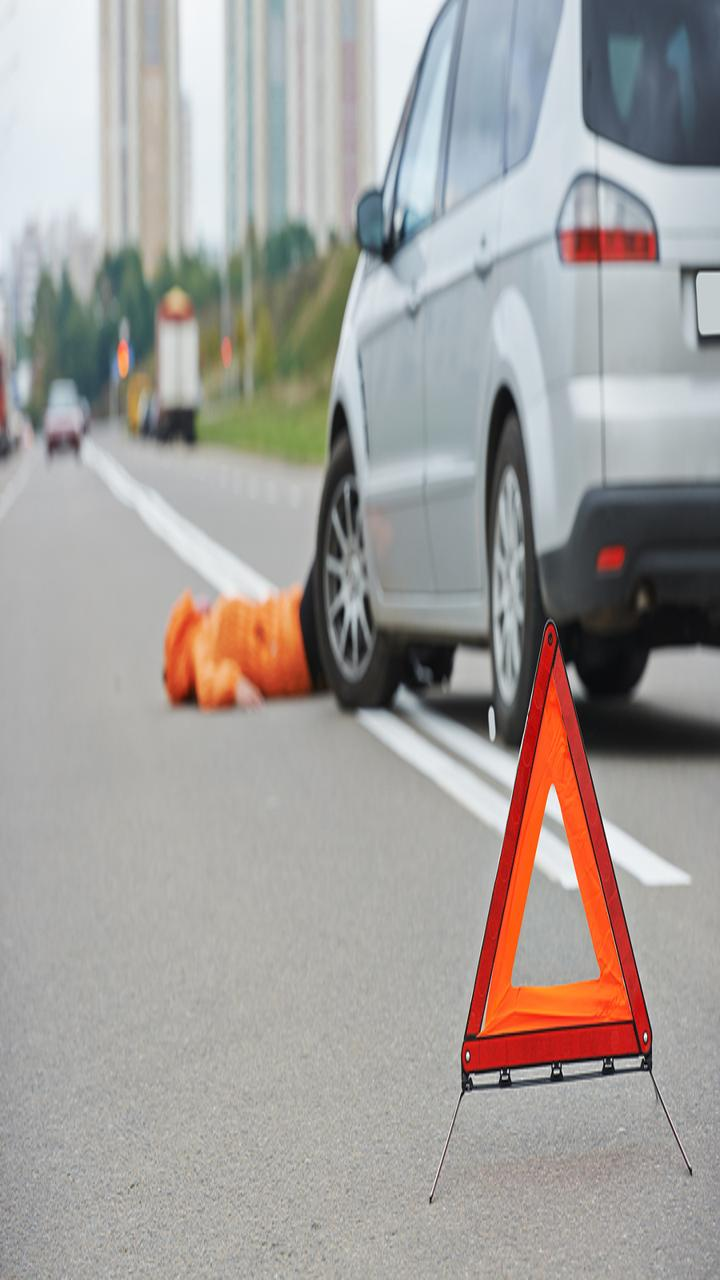Traffic sign: (382, 604, 720, 1206)
vehicle: (218, 9, 720, 707), (27, 366, 104, 476)
